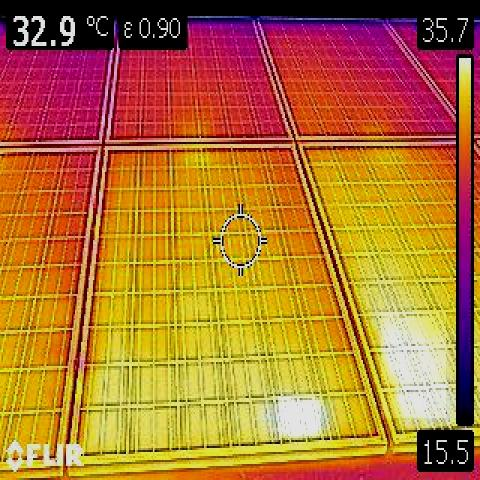fault: (381, 312, 446, 418), (278, 397, 321, 436)
